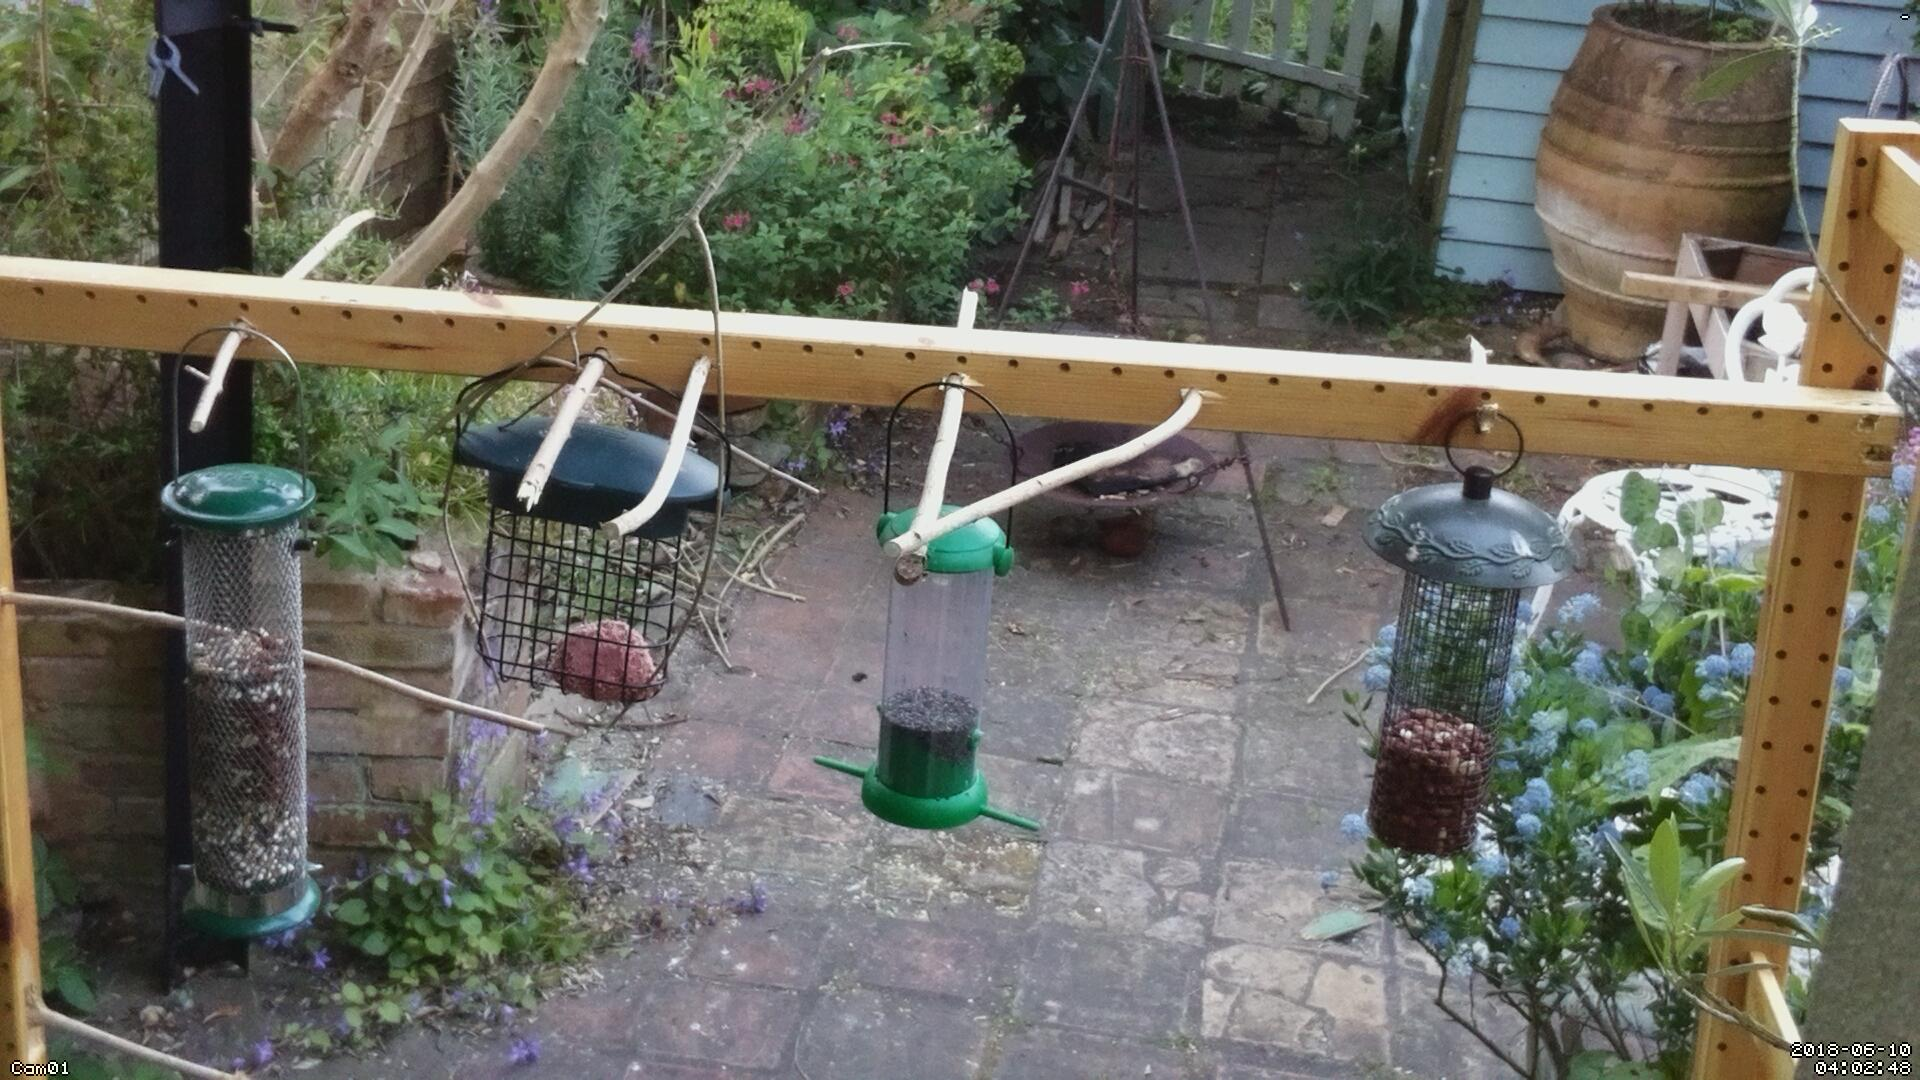unclassified: (919, 342, 1560, 539), (928, 340, 1580, 514), (233, 615, 495, 886), (233, 1, 506, 220), (1754, 20, 1904, 386), (1358, 683, 1531, 920), (487, 694, 629, 858)
